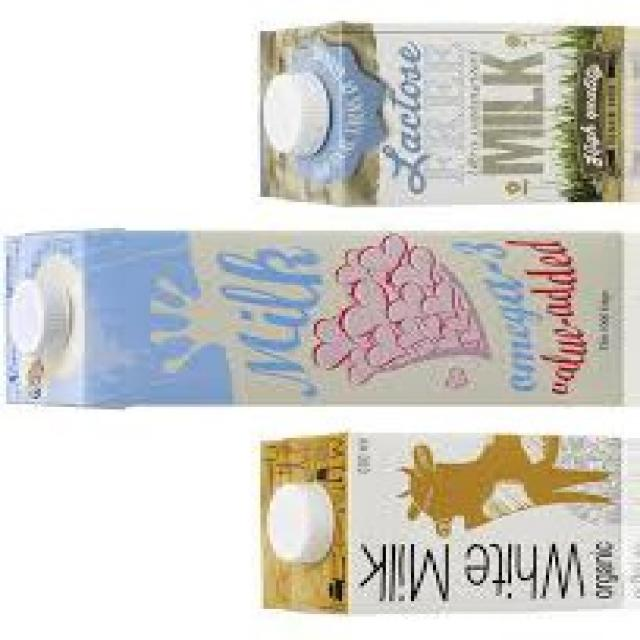non_white_jug: (3, 227, 628, 409), (251, 20, 630, 204), (260, 432, 626, 614)
